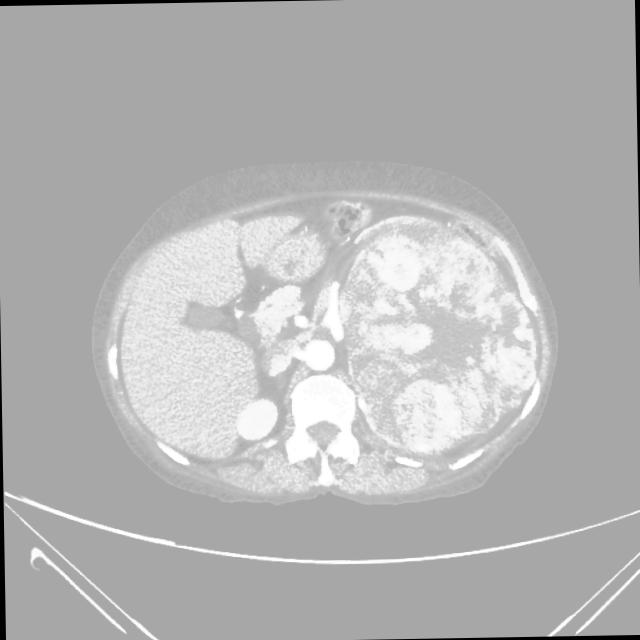TUMOR: (225, 173, 620, 404)
